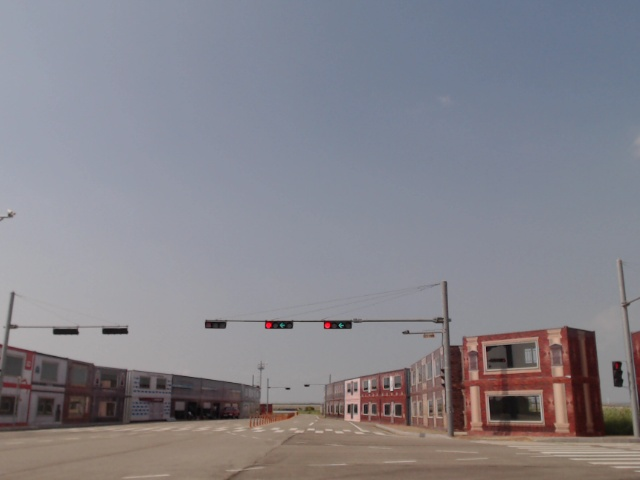left_green_4: (324, 322, 352, 329), (266, 322, 292, 329)
